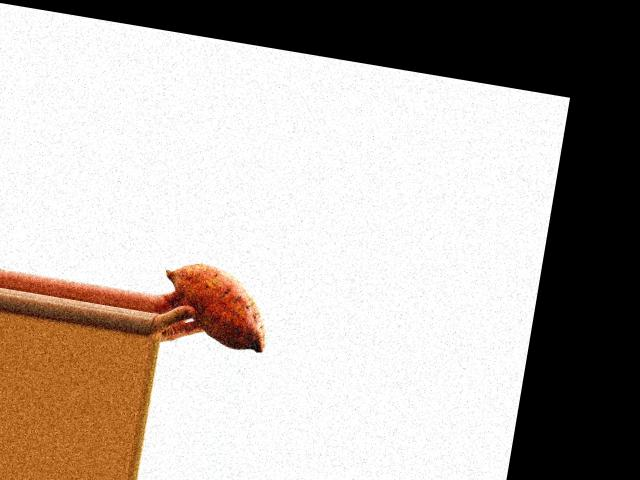sweet_potato: (158, 251, 280, 357)
